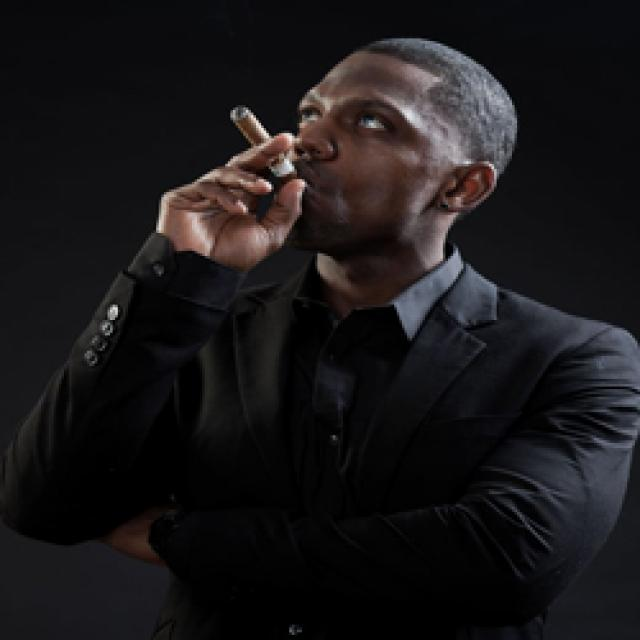Smooking: (222, 97, 308, 186)
